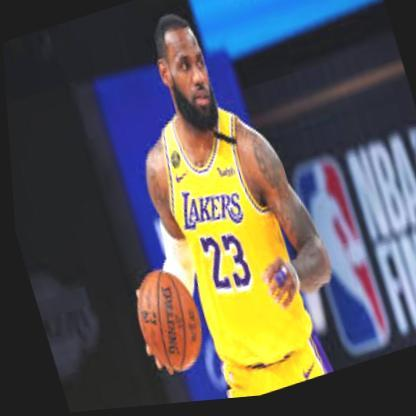basketball: (124, 264, 207, 382)
